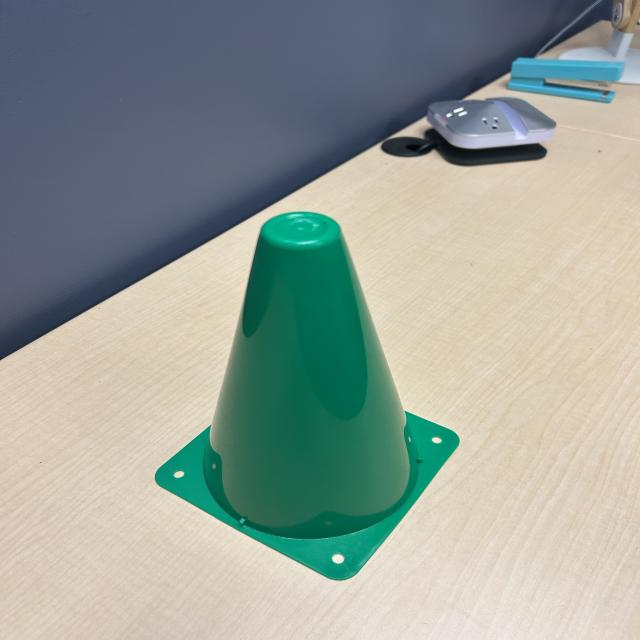green cone: (148, 203, 474, 586)
